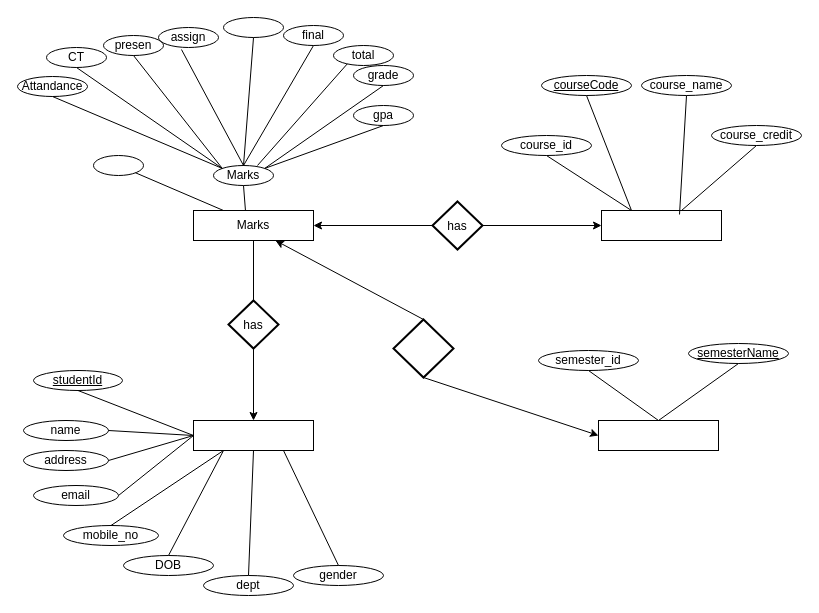
Image size: 819x613. Some labels were removed from this diagram. Each missing label, with the centre of its shape:
"CourseDetail" belongs at (x=661, y=225).
"mark_id" belongs at (x=118, y=165).
"mid" belongs at (x=253, y=27).
"needs" belongs at (x=423, y=348).
"Semester" belongs at (x=658, y=435).
"StudentDetail" belongs at (x=253, y=435).
